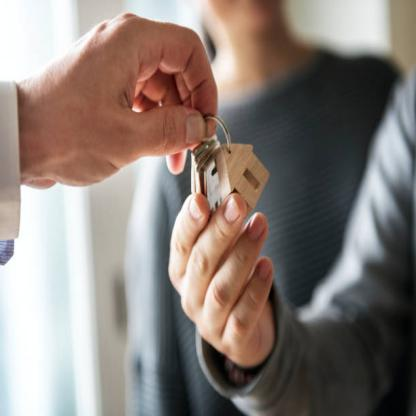keys: (186, 135, 227, 217)
